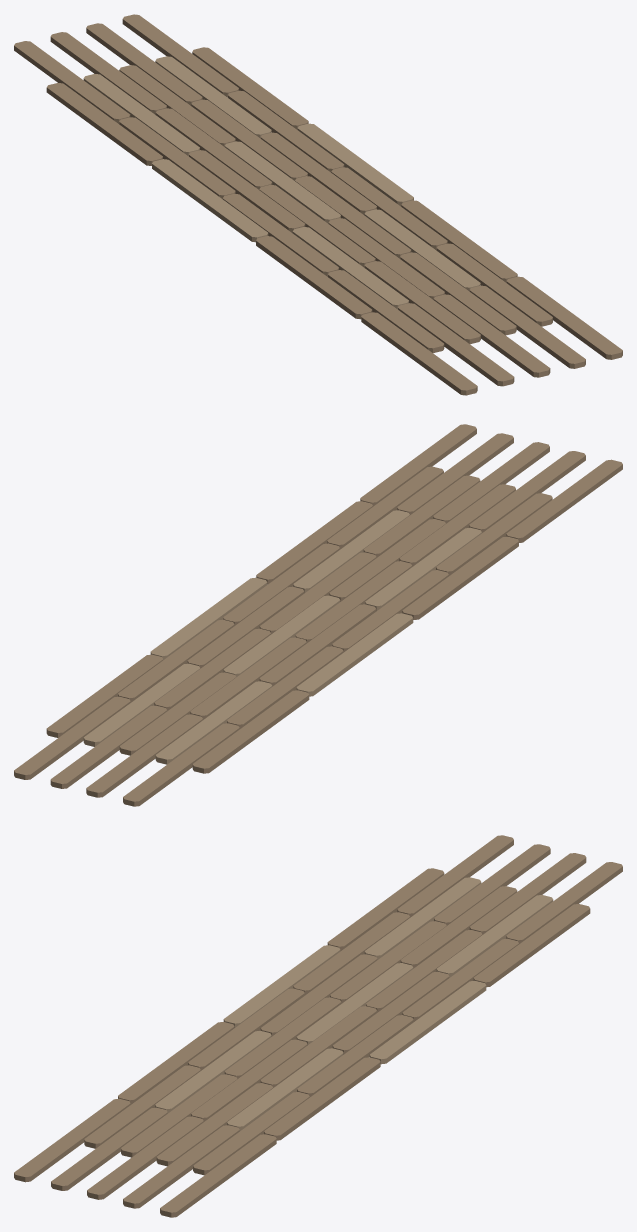
The model's file is Piso de Madera 1 PM1.fbx.
3 views of the same model, one above another, from view 1: azimuth 30°, elevation 25°; view 2: azimuth 150°, elevation 25°; view 3: azimuth 330°, elevation 25° (orthographic).
Visible parts, largest first — view 1: Piso_de_madera1_PM1; view 2: Piso_de_madera1_PM1; view 3: Piso_de_madera1_PM1.
Boxes of the visible parts, x1,y1,x2,y2 form: Piso_de_madera1_PM1: (14, 14, 622, 395); Piso_de_madera1_PM1: (14, 424, 622, 806); Piso_de_madera1_PM1: (14, 835, 622, 1217).
Size of the model in its own units: 4.14 by 0.1222 by 20.64.
